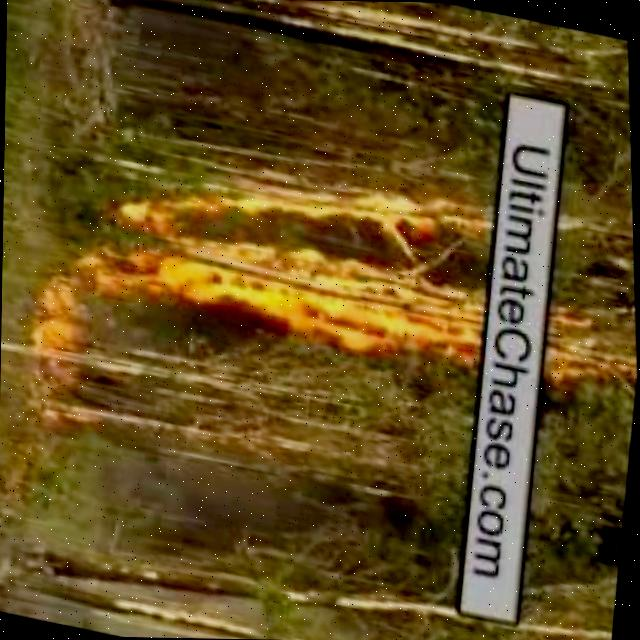fire: (86, 130, 504, 367), (538, 292, 640, 389), (22, 254, 88, 387)
